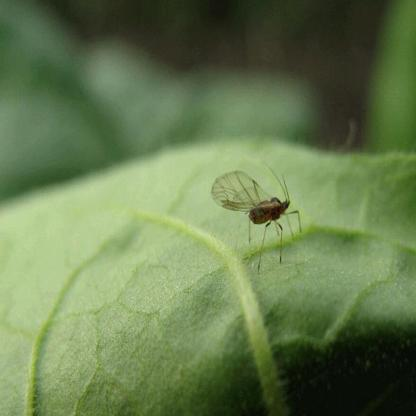aphid: (210, 162, 306, 258)
